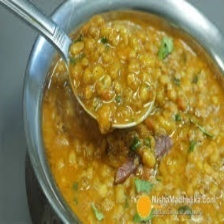dal: (40, 12, 224, 224)
